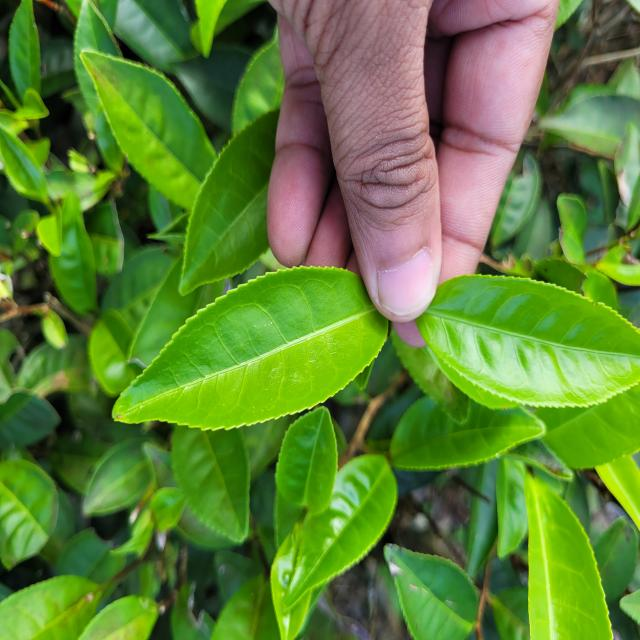Category B(2-4 days): (103, 221, 412, 461)
